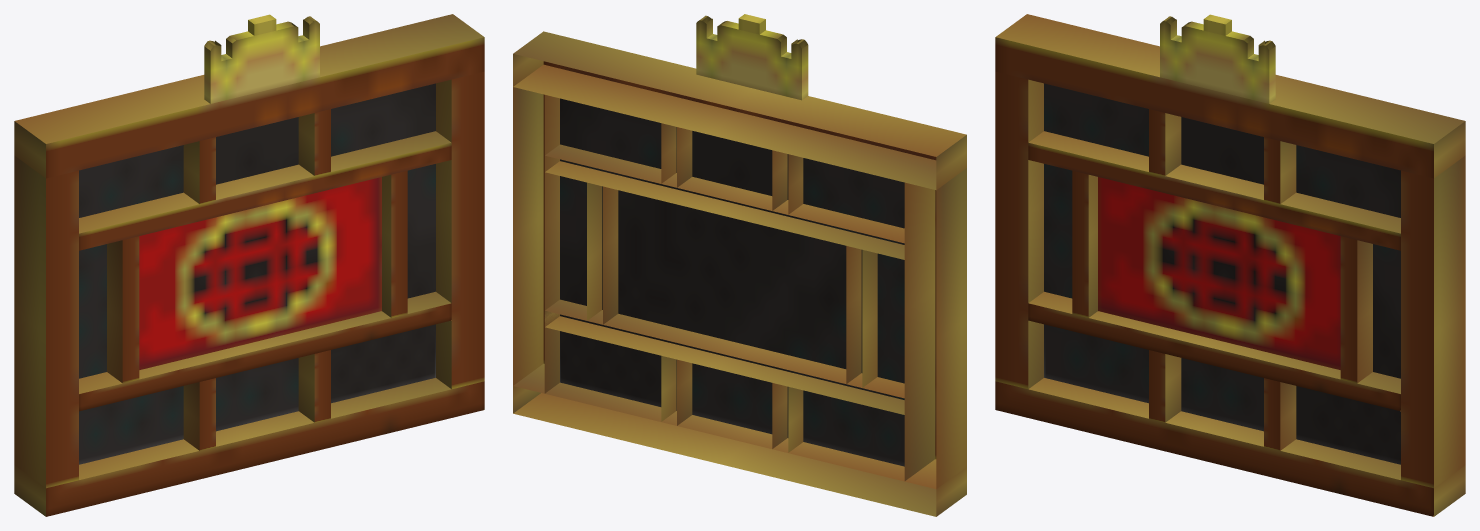
File: Poly_SF_Outside_B_Window_13.obj
3 renders of one model, left to right at view 1: azimuth 30°, elevation 25°; view 2: azimuth 150°, elevation 25°; view 3: azimuth 330°, elevation 25°, orthographic. The views are drawn at different scales.
Visible parts, largest first — view 1: Cube.001, Cube.002, Cube.003; view 2: Cube.001, Cube.002, Cube.003; view 3: Cube.001, Cube.002, Cube.003.
Boxes of the visible parts, <box> form: Cube.001: <box>14,14,484,516</box>; Cube.002: <box>14,71,484,488</box>; Cube.003: <box>204,14,319,103</box>; Cube.001: <box>513,31,966,516</box>; Cube.002: <box>513,87,966,488</box>; Cube.003: <box>696,14,808,100</box>; Cube.001: <box>995,14,1465,516</box>; Cube.002: <box>995,71,1465,488</box>; Cube.003: <box>1160,14,1275,103</box>.
Size of the model in its own units: 0.8 by 0.77 by 0.1.
1 material, 1 textured.
